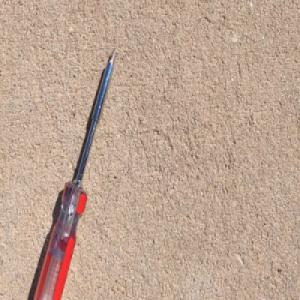Screwdriver: (34, 46, 118, 300)
